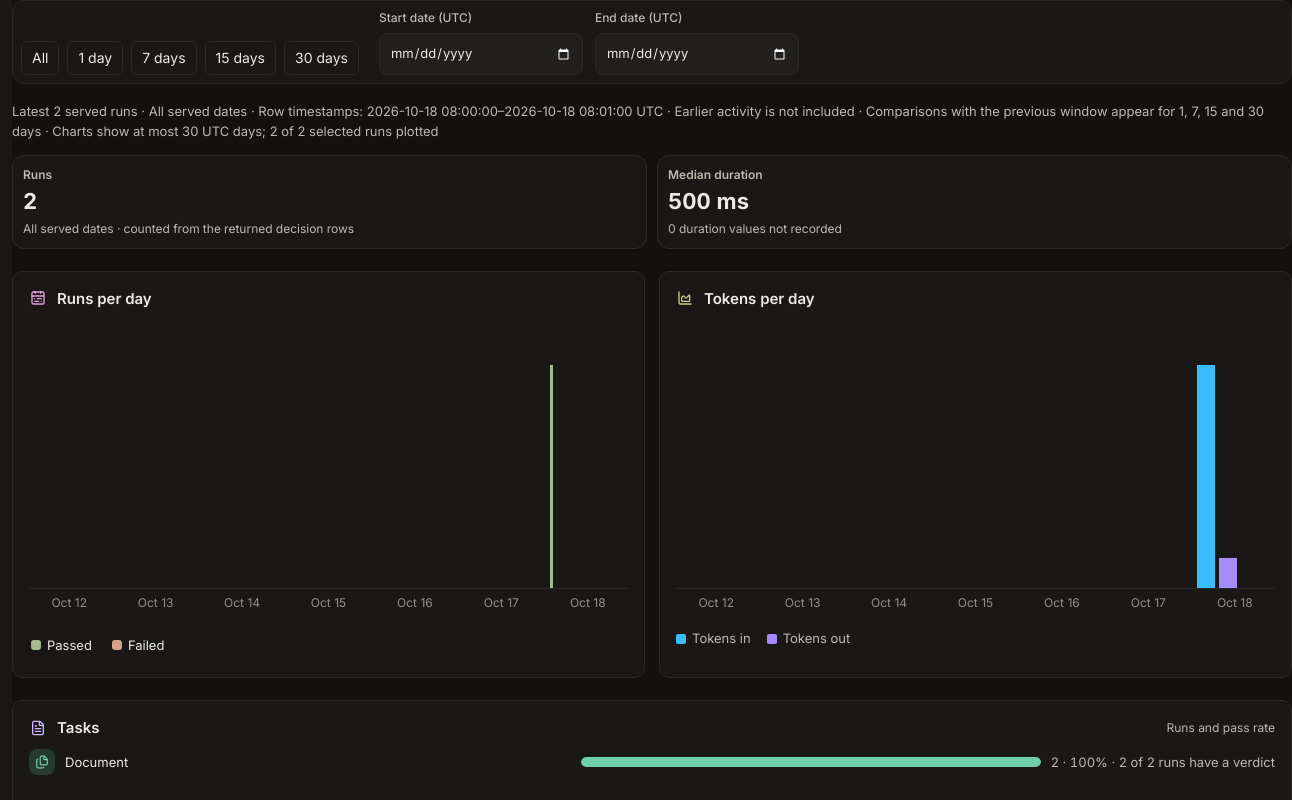
OMN-21166: Overview insight charts › C15: a partial token day labels each measured subtotal and its missing-run count
Focus the button with aria-label "Oct 18:" at (1235, 469), box [1194,349,1275,588]
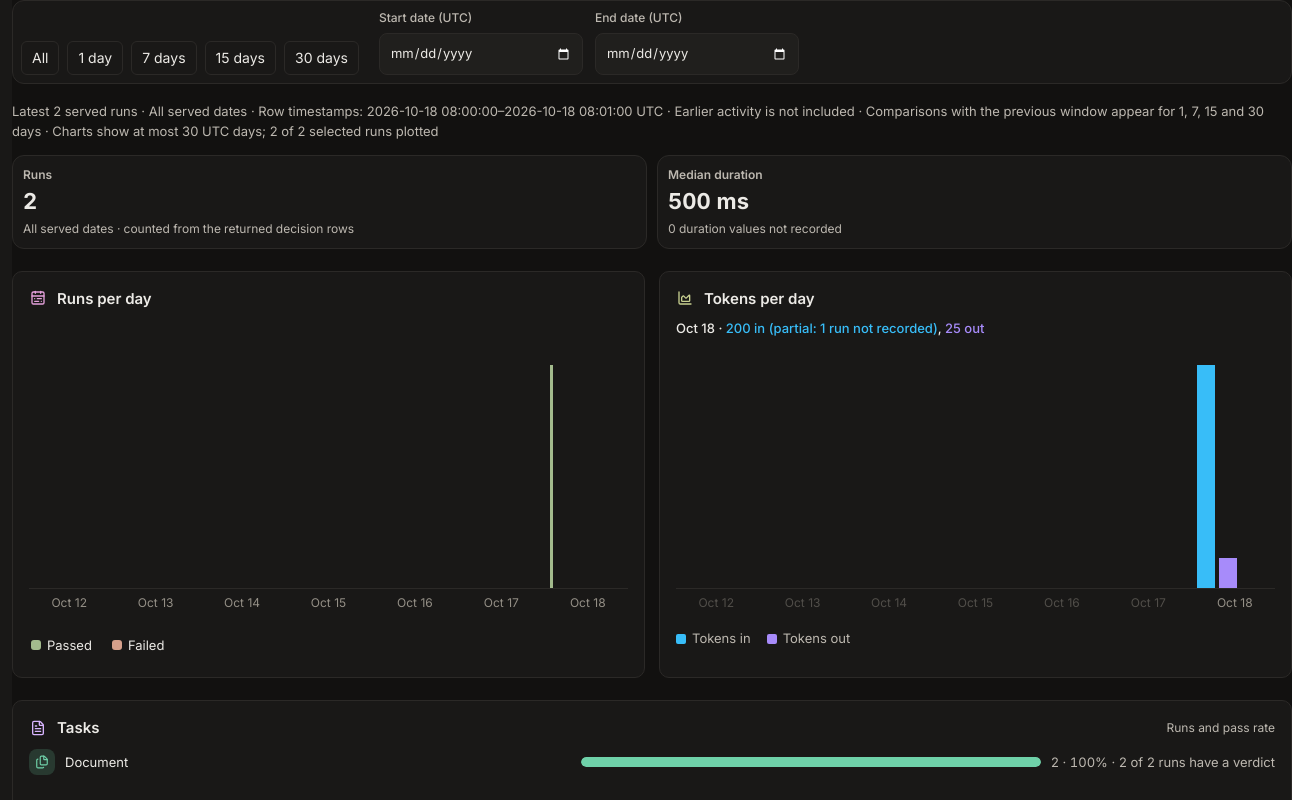
Expected: the element showing "Oct 18 · 200 in (partial: 1 run not recorded), 25 out" is shown, [676,320,984,336]
